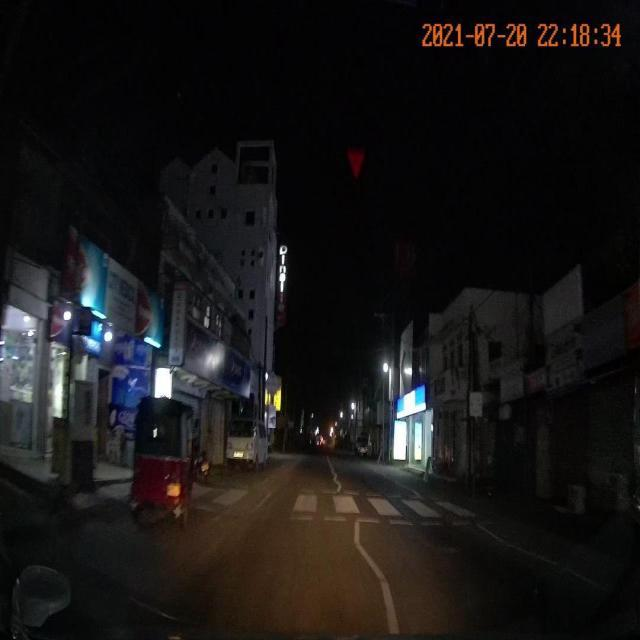Crosswalk: (200, 477, 490, 529)
